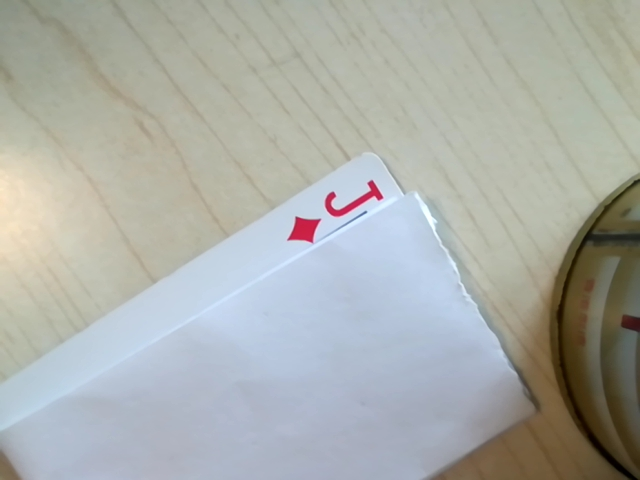fk j: (274, 178, 389, 247)
